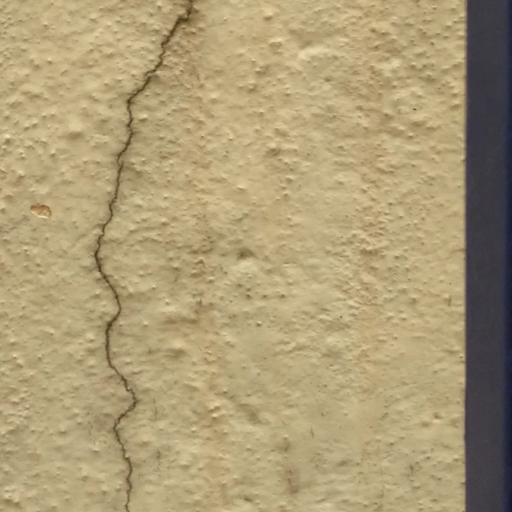minor_crack: (73, 0, 214, 512)
